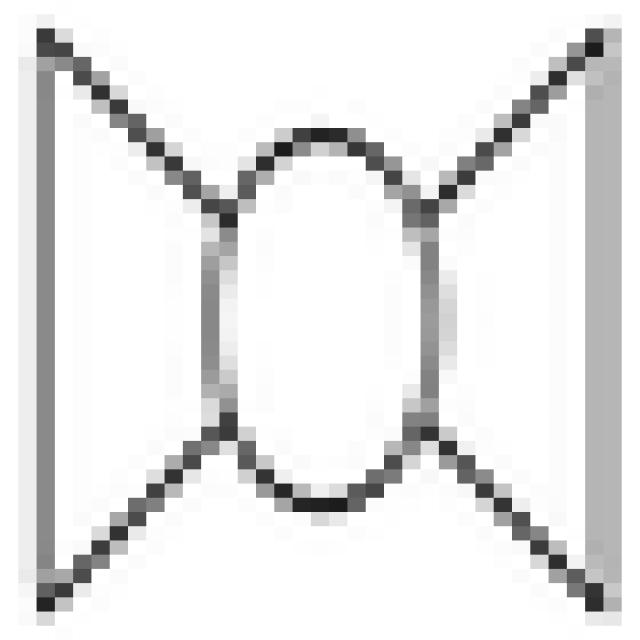ball valve: (42, 29, 617, 621)
